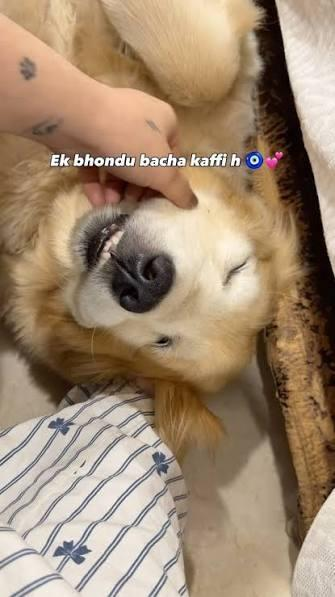adult_dog: (0, 0, 308, 451)
